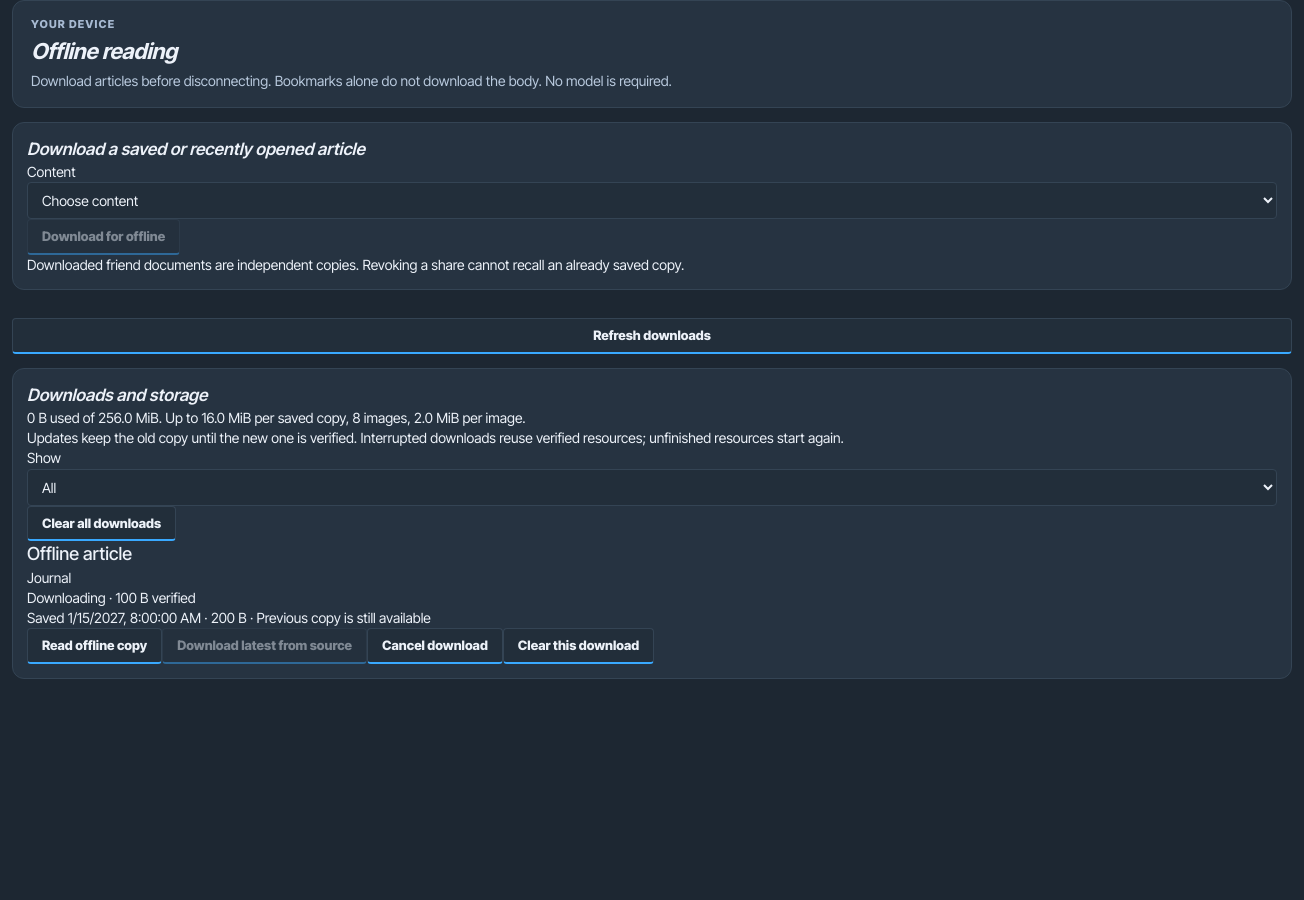
Scenario: shows cancellation as requested until the node confirms it, keeping the old copy
Click the button "Cancel download" at (435, 646), box top-left (367, 628), bottom-right (503, 664)
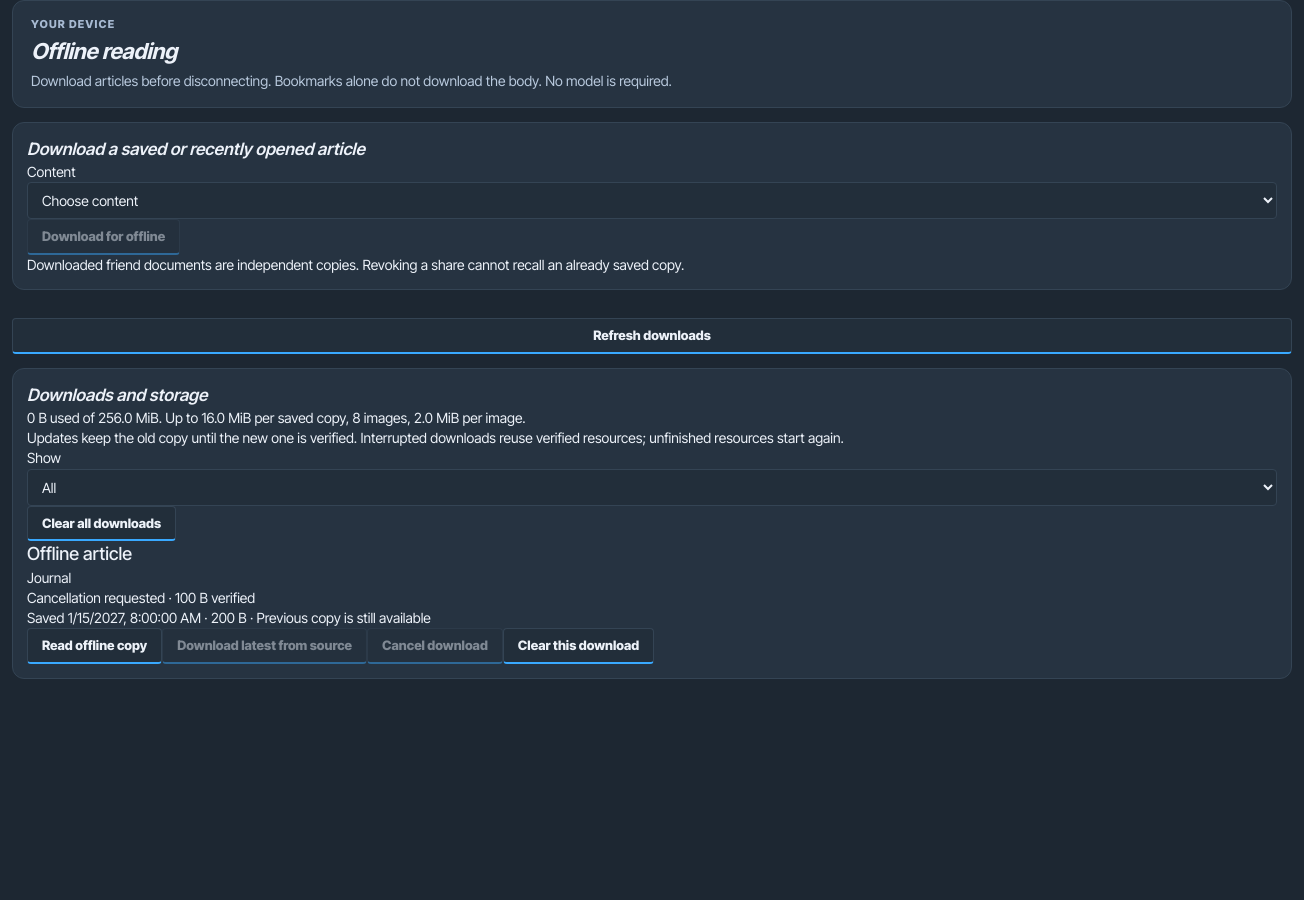
Expected: the button "Read offline copy" is enabled, top-left (27, 628), bottom-right (162, 664)
Expected: the text "Cancellation requested · 100 B verified" is shown, top-left (27, 589), bottom-right (255, 606)
Expected: the button "Cancel download" is disabled, top-left (367, 628), bottom-right (503, 664)
